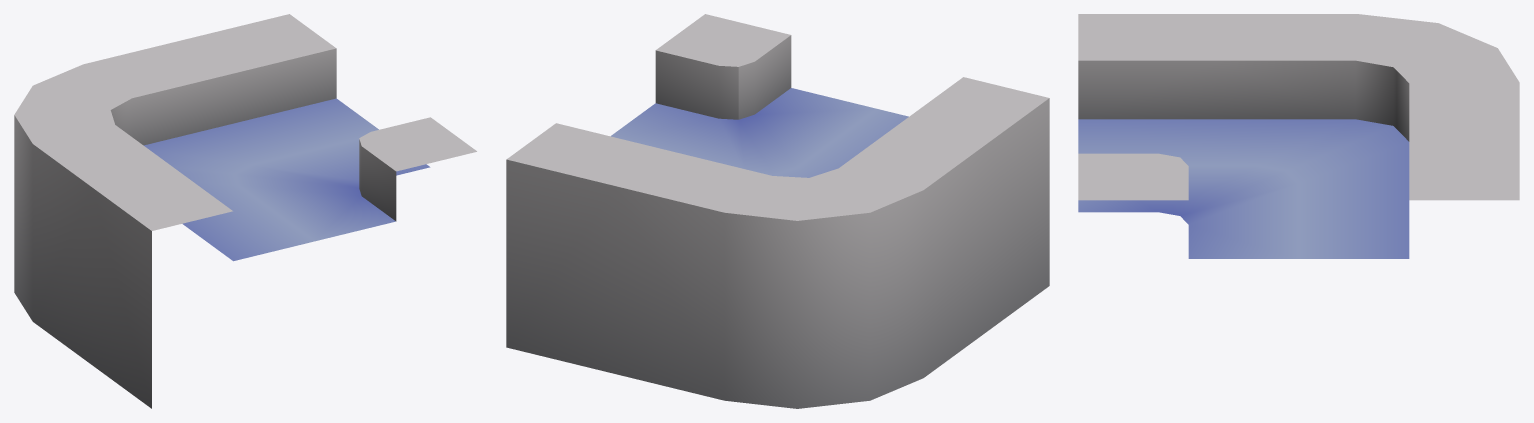
Rendered from river_01.glb.
3 renders of one model, left to right at view 1: azimuth 30°, elevation 25°; view 2: azimuth 150°, elevation 25°; view 3: azimuth 270°, elevation 25°, orthographic. The views are drawn at different scales.
Visible parts, largest first — view 1: river_01; view 2: river_01; view 3: river_01.
Part boxes in pixels (bbox=[...]): river_01: bbox=[14, 14, 476, 408]; river_01: bbox=[506, 14, 1049, 408]; river_01: bbox=[1078, 14, 1519, 258].
Size of the model in its own units: 2 by 1.04 by 2.
